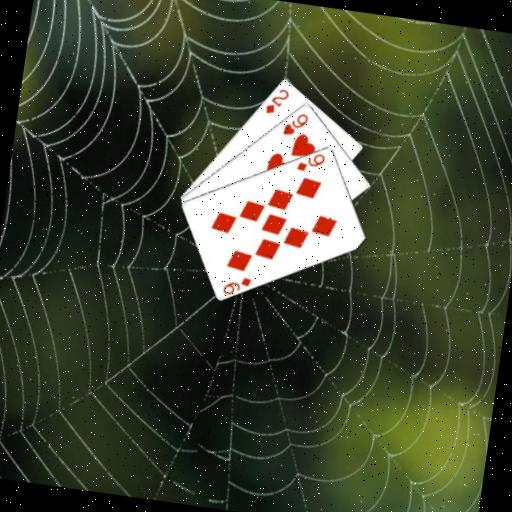2D: (262, 83, 292, 118)
9D: (293, 147, 328, 175), (219, 271, 254, 299)
9H: (280, 108, 311, 139)
